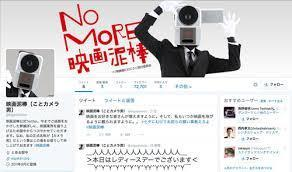no more kid: (174, 3, 226, 51), (12, 51, 45, 95)
